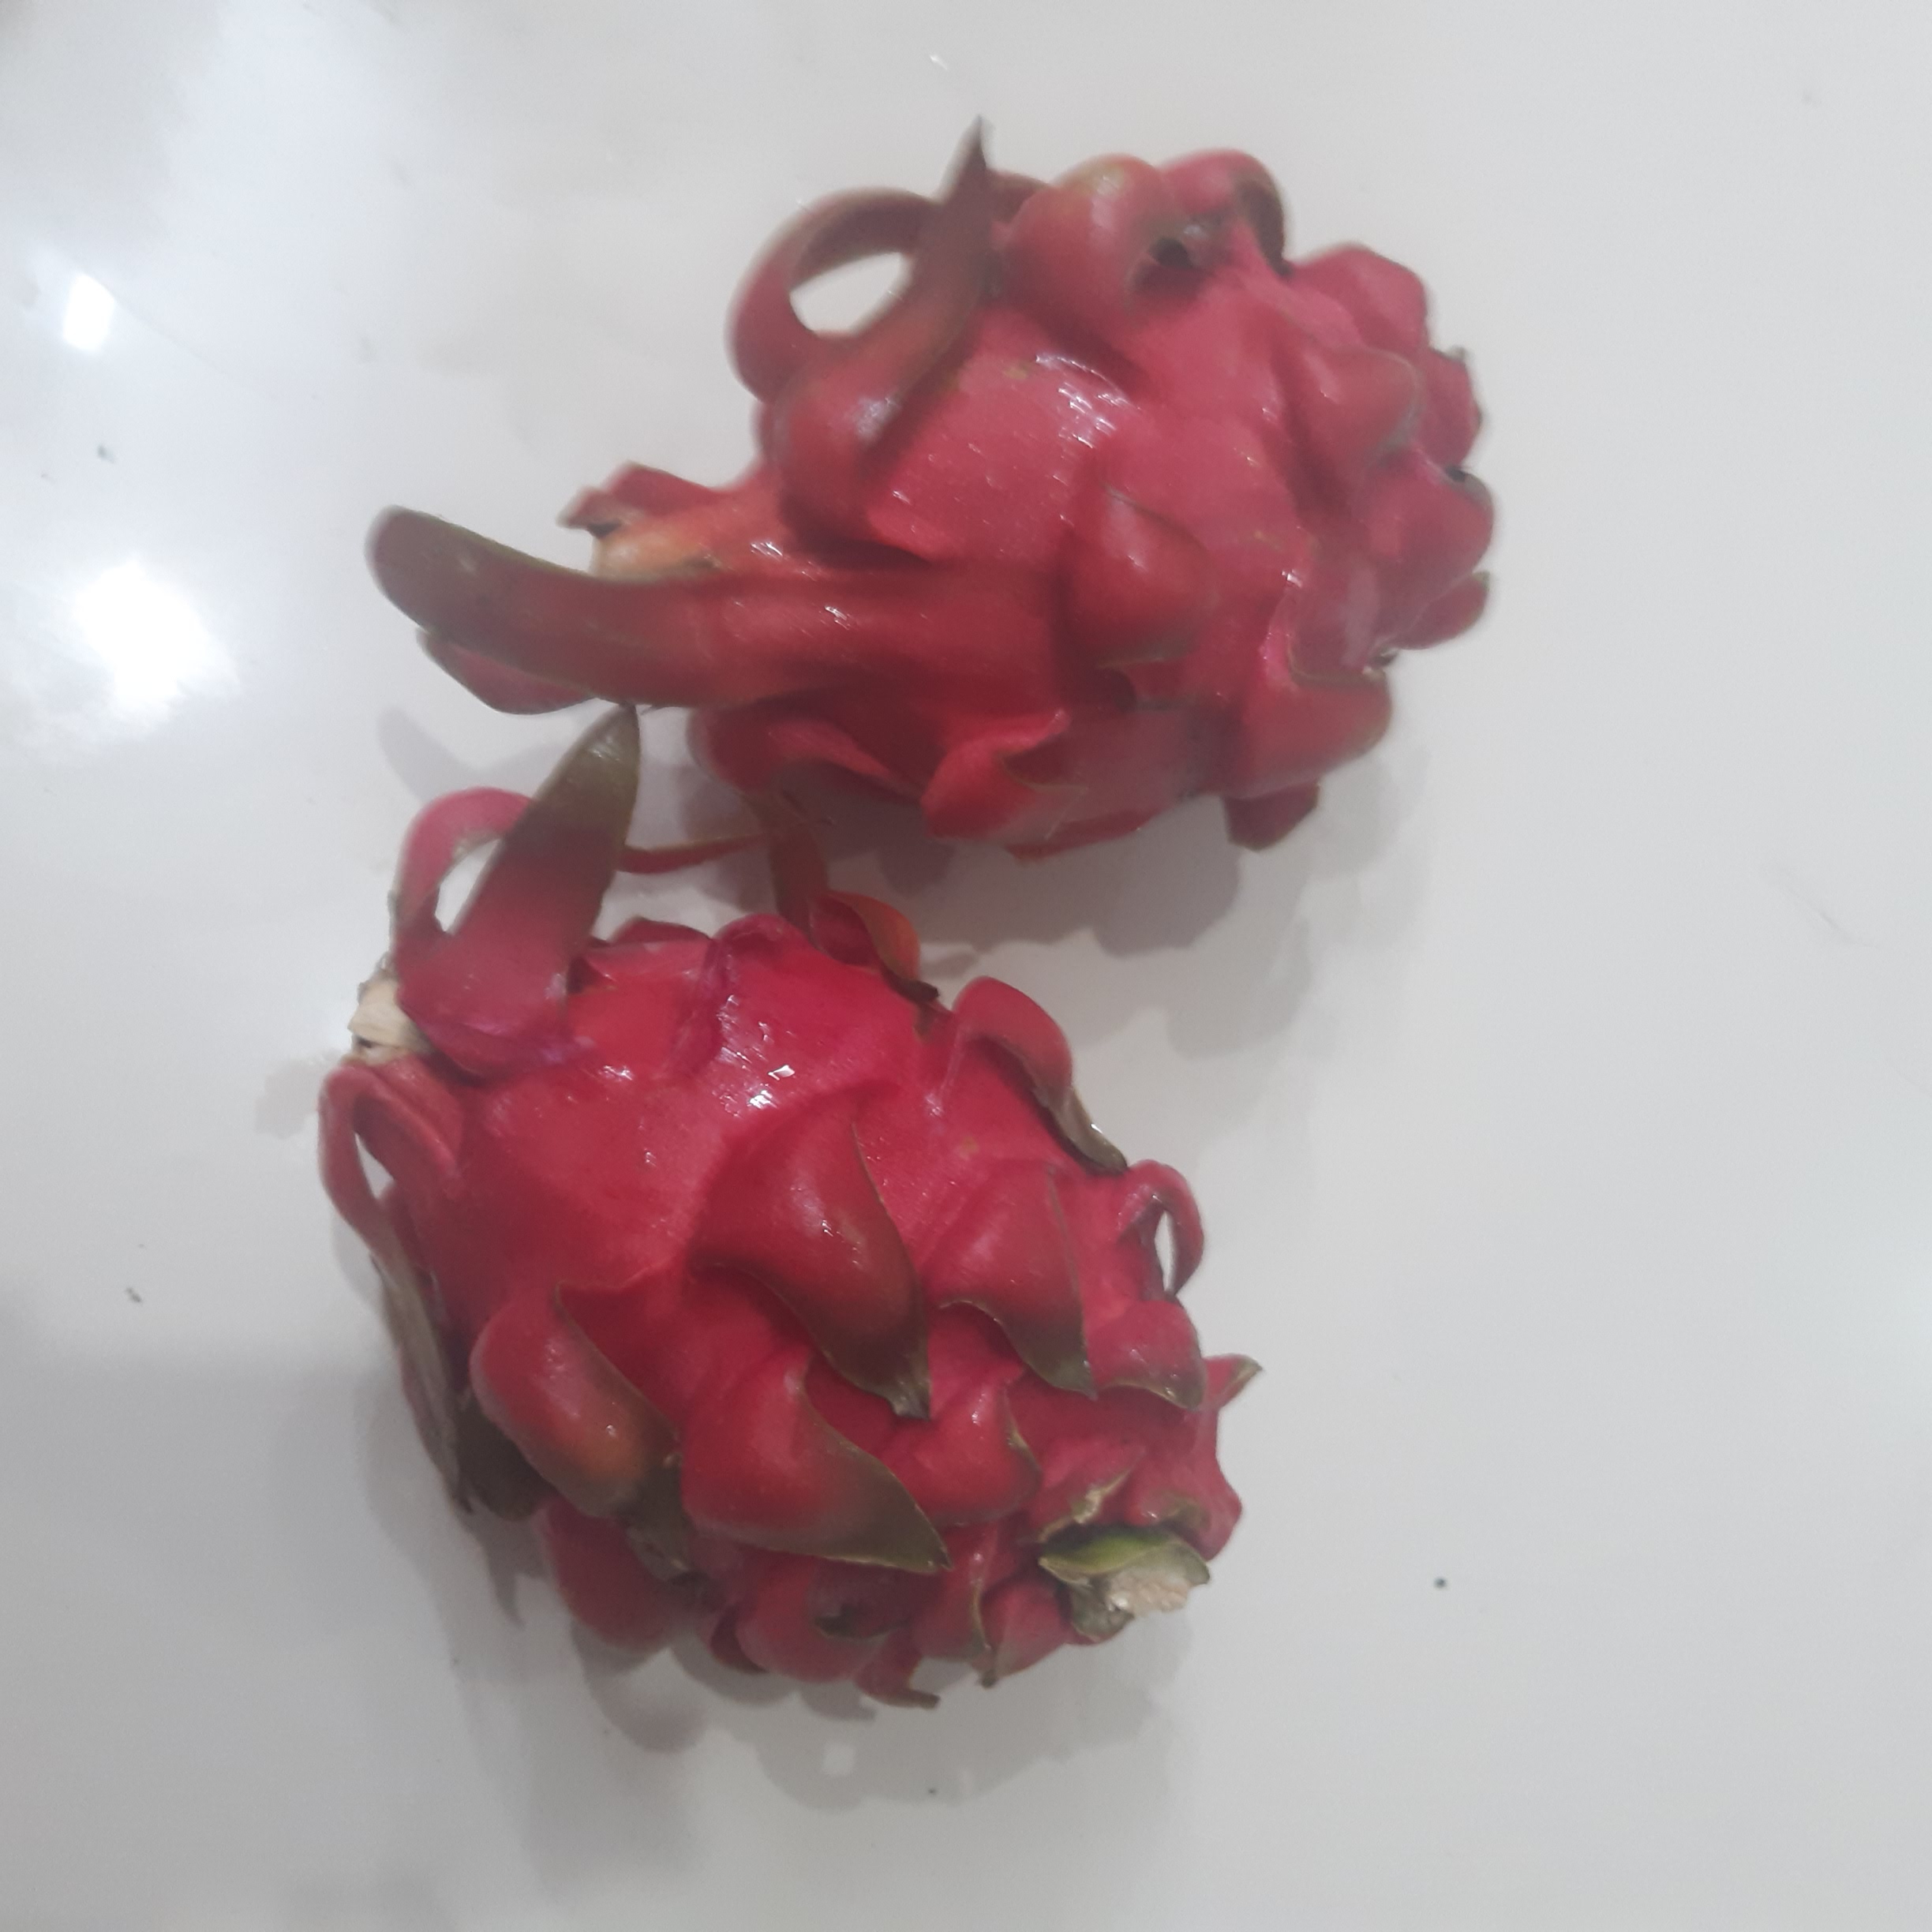Thanh long: (412, 939, 1249, 1645), (740, 196, 1483, 807)
